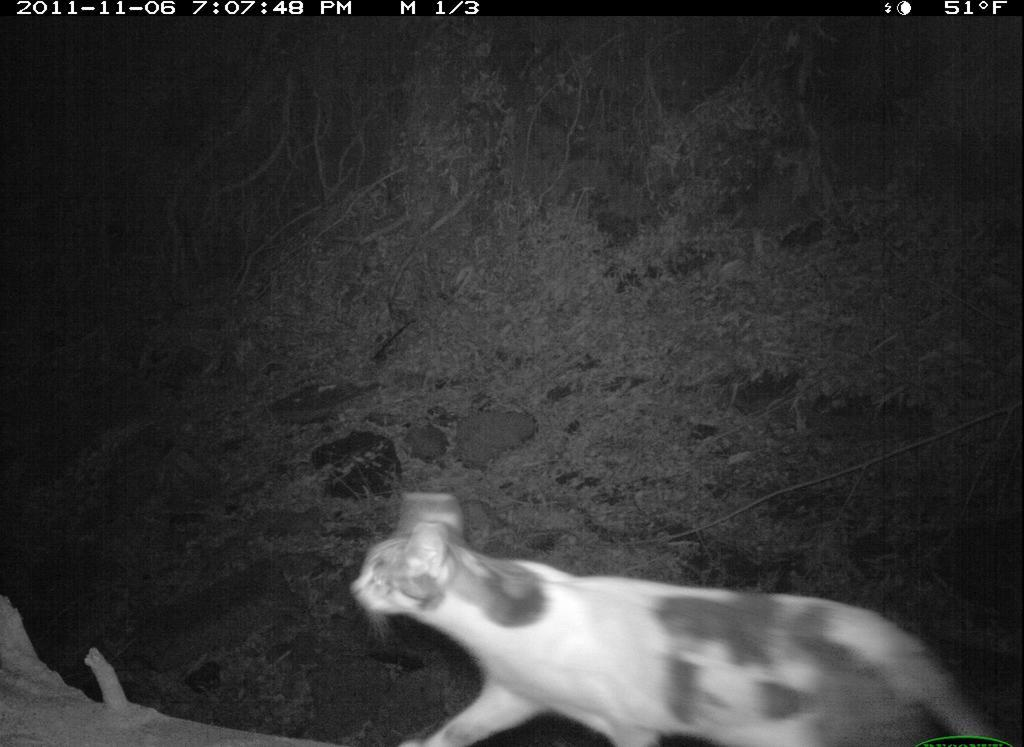cat: (335, 473, 1023, 747)
